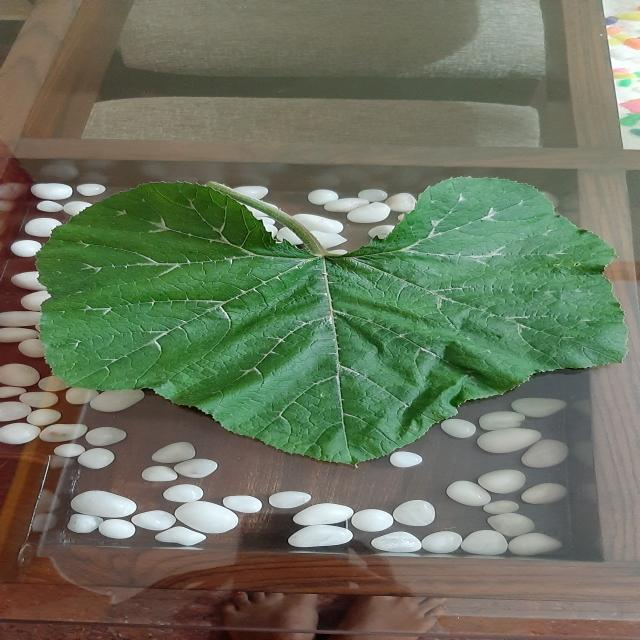pumpkin: (38, 178, 626, 464)
